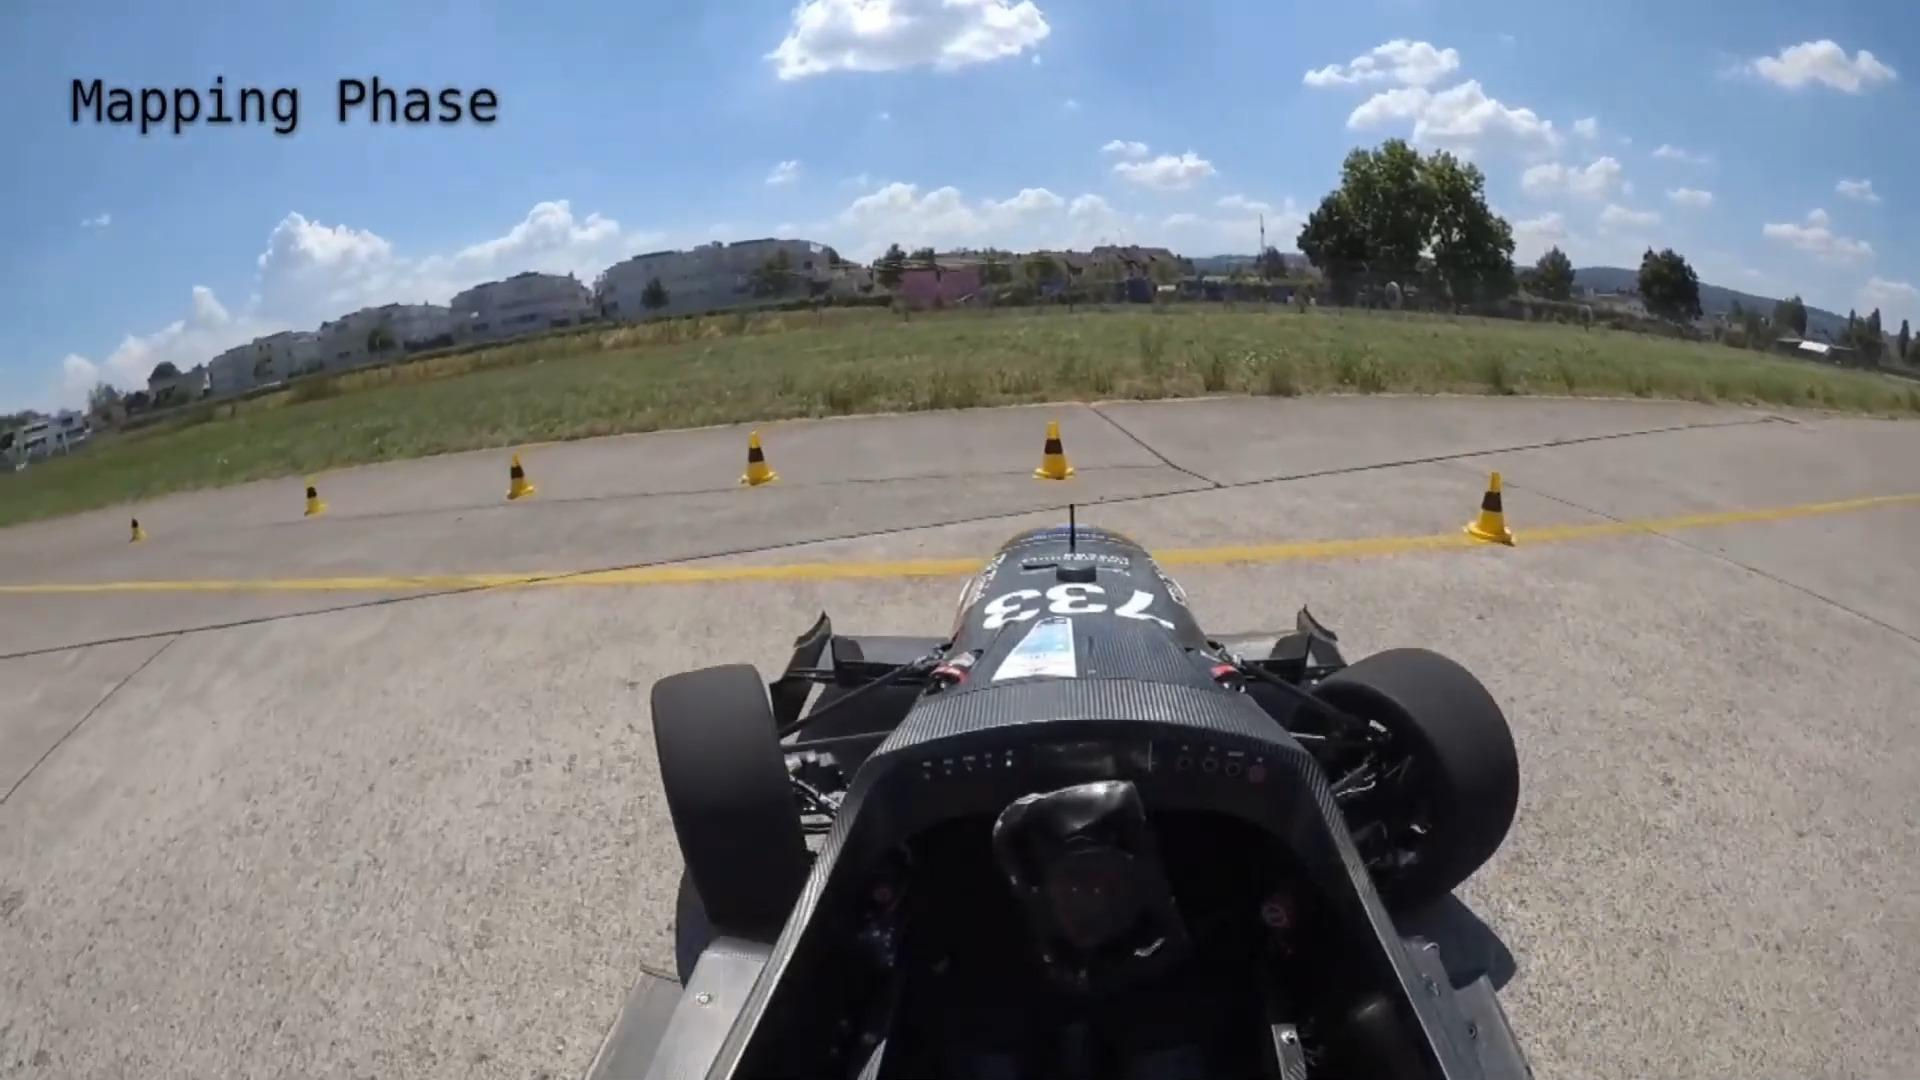yellow_cone: (1464, 468, 1516, 549), (1033, 422, 1077, 481), (741, 430, 778, 487), (505, 454, 537, 500), (302, 479, 331, 518)
